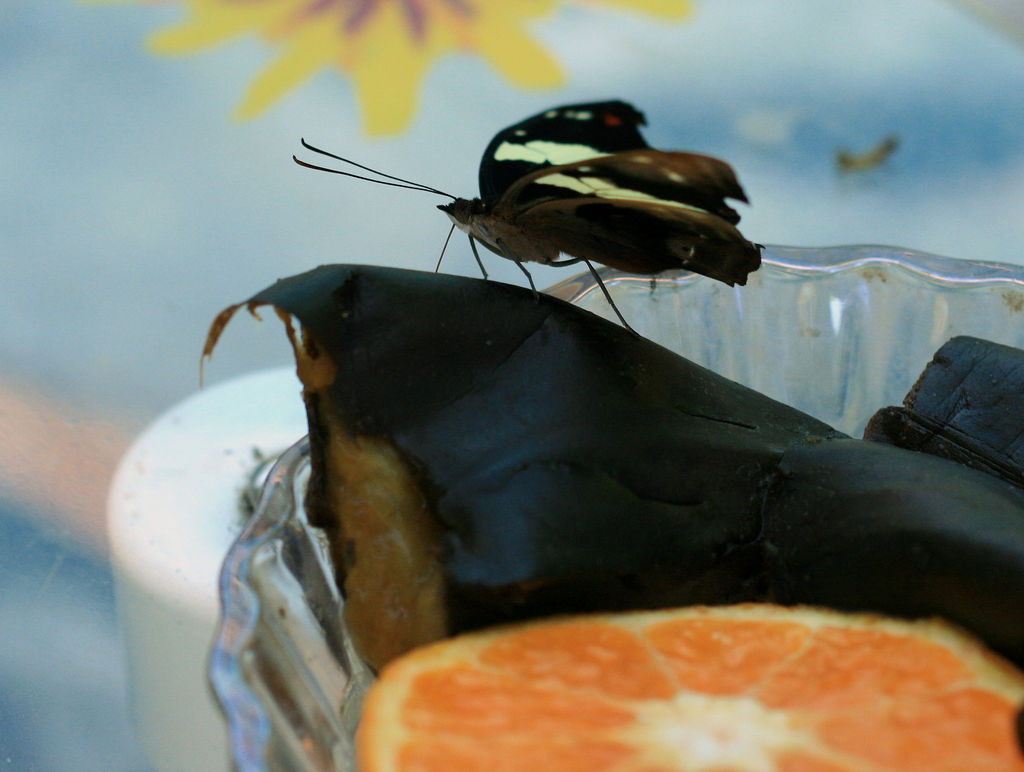Butterfly: (407, 64, 779, 319)
